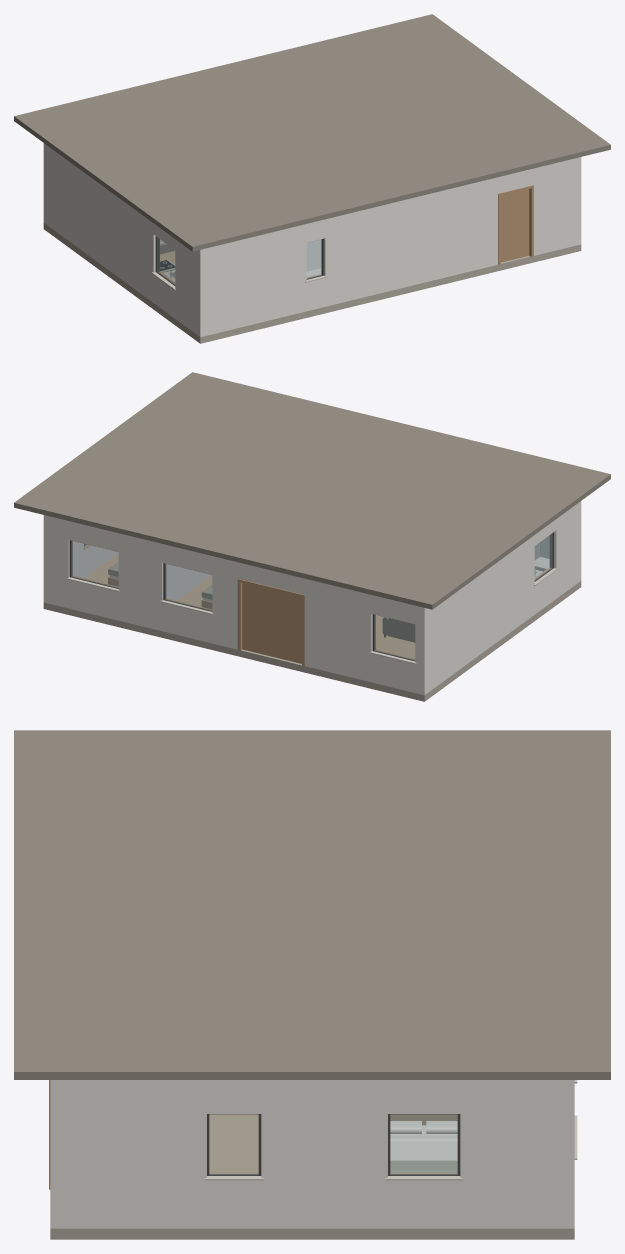
File: bungalow.glb
3 views of the same model, one above another, from view 1: azimuth 30°, elevation 25°; view 2: azimuth 150°, elevation 25°; view 3: azimuth 270°, elevation 25° (orthographic). The views are drawn at different scales.
Visible parts, largest first — view 1: roof:roof_1, wall:shell, slab:slab, door:d_front, window:w_sink:glass, window:s_bath:glass, door:d_front:casing, wall:w_service; view 2: roof:roof_1, wall:shell, door:d_garden, slab:slab, window:n_bed2:glass, window:n_bed1:glass, window:n_living:glass, wall:w_bed2, floor:r_living, door:d_garden:casing, window:w_sink:glass, furniture:sofa_9 (+1 smaller); view 3: roof:roof_1, wall:shell, slab:slab, window:e_bed2:glass, furniture:bed_12, window:e_hall:glass, floor:r_hall.
Part boxes in pixels (x1=…): roof:roof_1: x1=14, y1=14, x2=610, y2=251; wall:shell: x1=43, y1=143, x2=581, y2=337; slab:slab: x1=43, y1=223, x2=581, y2=343; door:d_front: x1=501, y1=189, x2=529, y2=262; window:w_sink:glass: x1=157, y1=237, x2=174, y2=284; window:s_bath:glass: x1=307, y1=239, x2=321, y2=278; door:d_front:casing: x1=498, y1=185, x2=533, y2=264; wall:w_service: x1=306, y1=239, x2=321, y2=271; roof:roof_1: x1=14, y1=372, x2=610, y2=609; wall:shell: x1=43, y1=501, x2=581, y2=695; door:d_garden: x1=242, y1=583, x2=301, y2=663; slab:slab: x1=43, y1=581, x2=581, y2=701; window:n_bed2:glass: x1=71, y1=541, x2=118, y2=587; window:n_bed1:glass: x1=165, y1=563, x2=211, y2=610; window:n_living:glass: x1=374, y1=615, x2=414, y2=660; wall:w_bed2: x1=166, y1=564, x2=211, y2=600; floor:r_living: x1=375, y1=615, x2=415, y2=658; door:d_garden:casing: x1=237, y1=579, x2=304, y2=666; window:w_sink:glass: x1=535, y1=533, x2=552, y2=580; furniture:sofa_9: x1=382, y1=617, x2=415, y2=642; roof:roof_1: x1=14, y1=730, x2=610, y2=1079; wall:shell: x1=50, y1=1080, x2=574, y2=1228; slab:slab: x1=50, y1=1228, x2=574, y2=1239; window:e_bed2:glass: x1=390, y1=1114, x2=457, y2=1174; furniture:bed_12: x1=390, y1=1114, x2=457, y2=1172; window:e_hall:glass: x1=209, y1=1114, x2=258, y2=1174; floor:r_hall: x1=209, y1=1114, x2=258, y2=1172.
Size of the model in its own units: 13.4 by 3.35 by 9.9.
